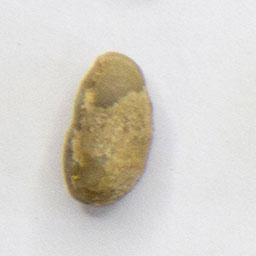longberry: (61, 47, 158, 211)
